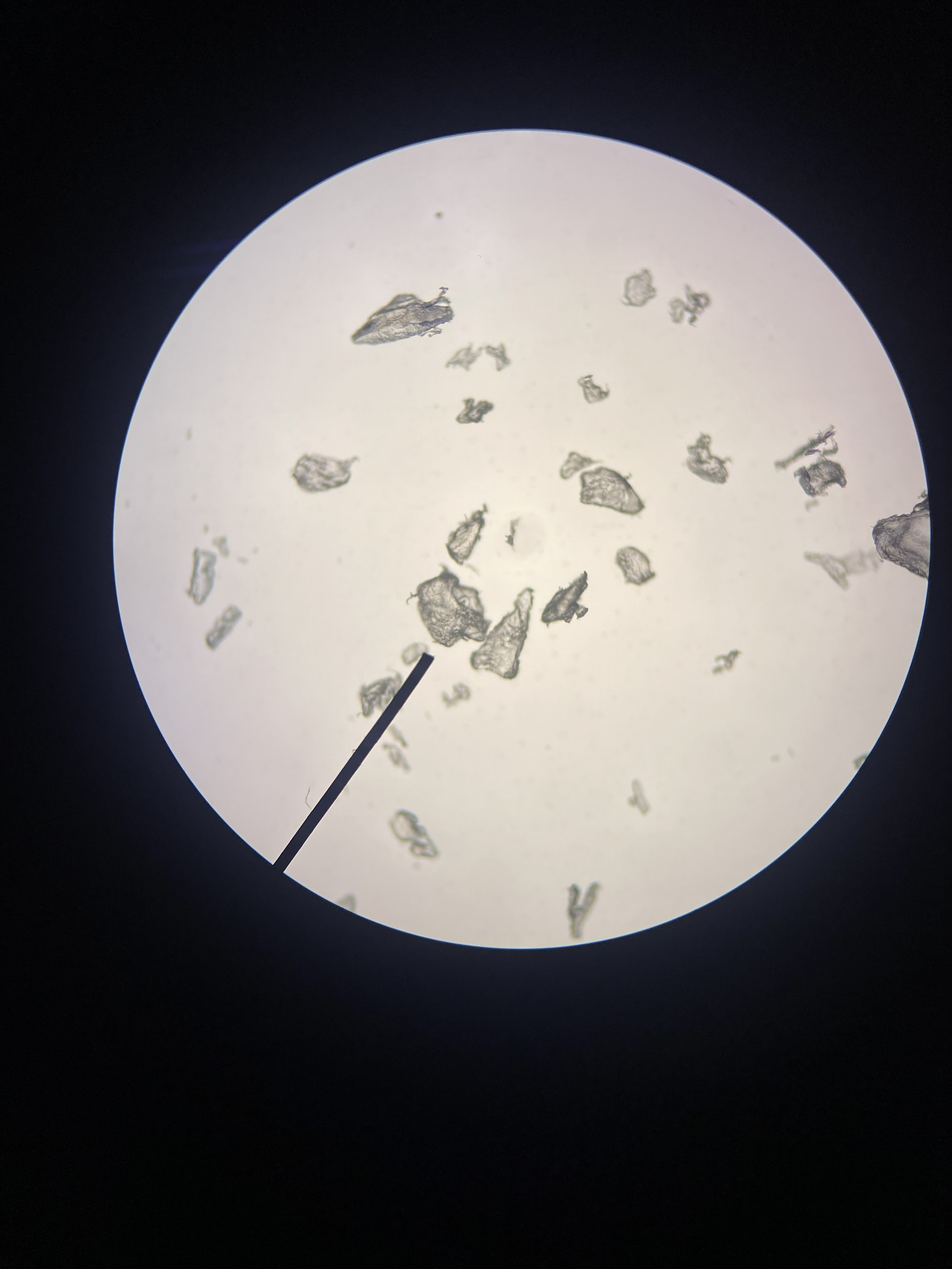microplastic: (406, 565, 491, 646), (352, 288, 454, 345), (471, 588, 533, 679), (871, 492, 931, 581), (776, 427, 848, 497), (803, 550, 881, 591), (581, 465, 643, 514), (445, 504, 490, 566), (541, 570, 589, 627), (293, 456, 363, 493), (389, 809, 439, 857), (686, 433, 732, 484), (567, 883, 601, 938), (358, 674, 399, 719), (205, 605, 243, 652), (669, 284, 711, 326), (188, 549, 216, 605), (615, 547, 654, 585), (620, 270, 656, 307), (560, 452, 603, 480), (445, 345, 482, 371), (382, 744, 412, 775), (457, 399, 493, 423), (578, 376, 610, 403), (629, 780, 649, 815), (442, 684, 472, 706), (486, 344, 510, 371), (712, 651, 740, 674), (401, 643, 430, 665), (211, 537, 230, 560), (390, 726, 408, 748), (505, 519, 517, 551), (337, 895, 357, 913), (852, 755, 868, 769), (805, 499, 819, 511)
